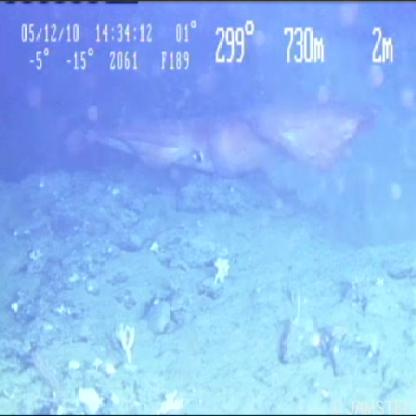Bio: (75, 96, 388, 207)
